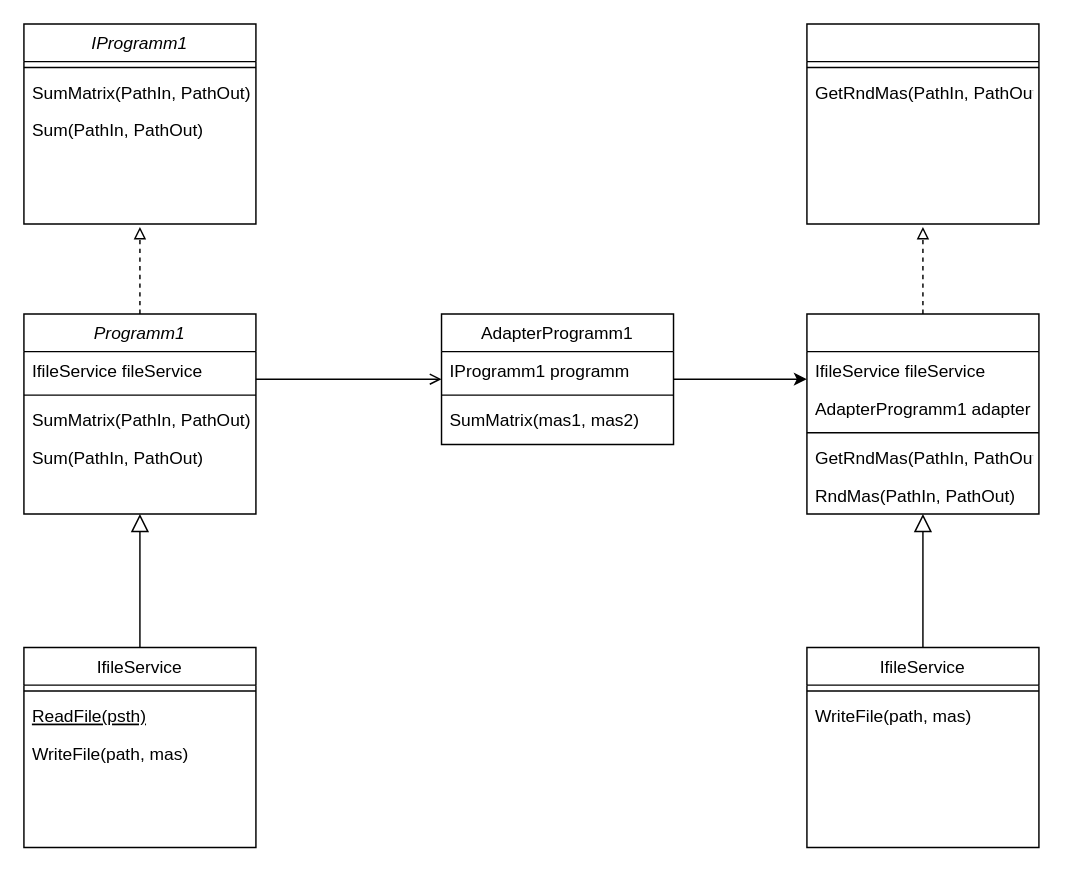
The diagram is 1067 pixels wide and 871 high, and some of its shapes have lost their labels. The shapes that lost their labels are listed below. From the top down, each one's box as (x1, y1, x2, y2) in pixels, then its label:
(805, 22, 1039, 224): IProgramm2
(805, 312, 1039, 514): Programm2
